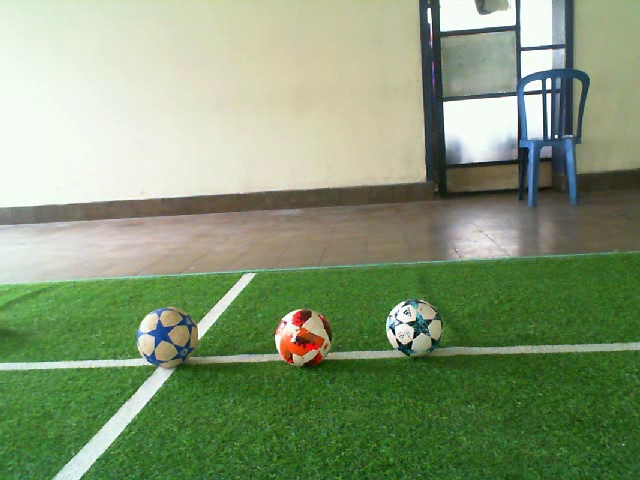ball: (134, 304, 200, 369), (272, 306, 335, 369), (383, 297, 445, 359)
